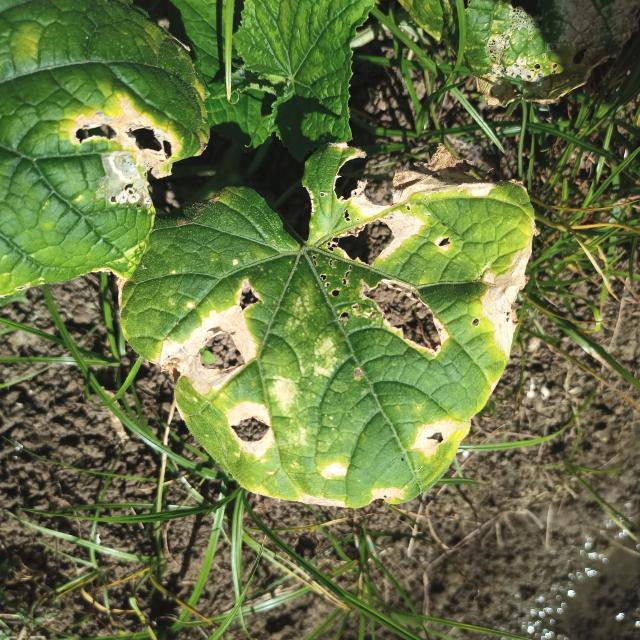disease_cucumber: (152, 170, 532, 506), (58, 98, 181, 200)
